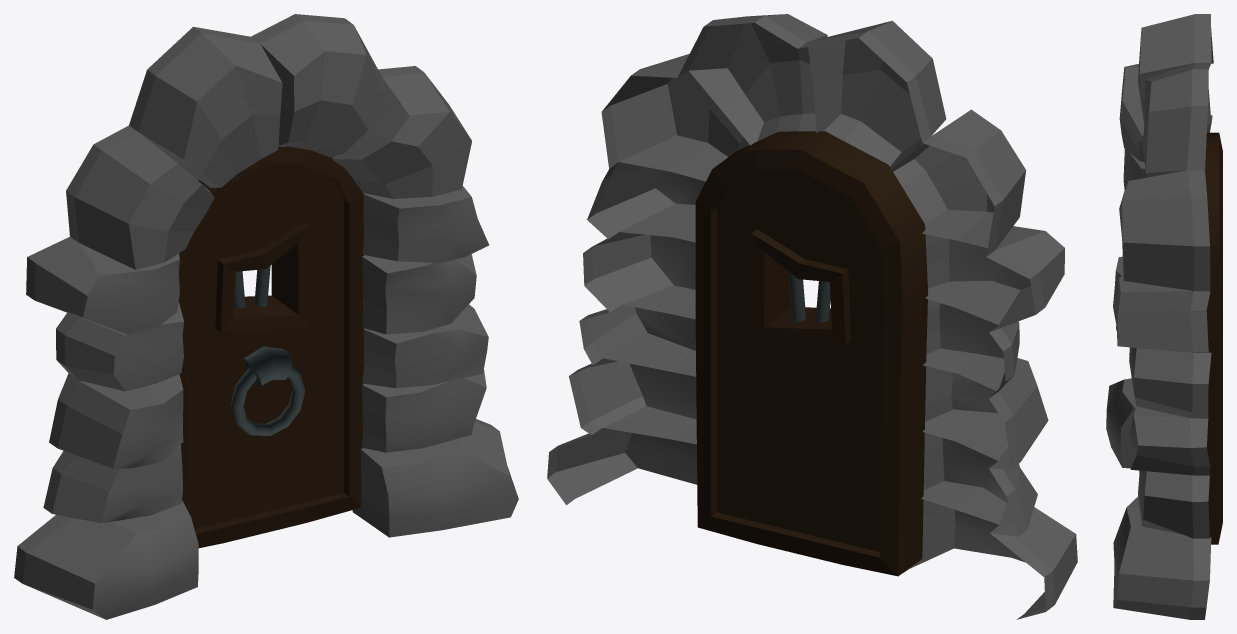
File: gate_2.FBX
3 views of the same model, side by side, from view 1: azimuth 30°, elevation 25°; view 2: azimuth 150°, elevation 25°; view 3: azimuth 270°, elevation 25° (orthographic). The views are drawn at different scales.
Parts seen in each view (by area): view 1: Plane020, Plane014; view 2: Plane020, Plane014; view 3: Plane020, Plane014.
Part boxes in pixels (box(x1,y1,x2,y2)): Plane020: box(14, 14, 518, 619); Plane014: box(178, 146, 364, 548); Plane020: box(547, 14, 1077, 619); Plane014: box(695, 131, 928, 576); Plane020: box(1106, 14, 1213, 619); Plane014: box(1205, 132, 1222, 544).
Bounding box in the file's own units: 249 × 259 × 56.99.
